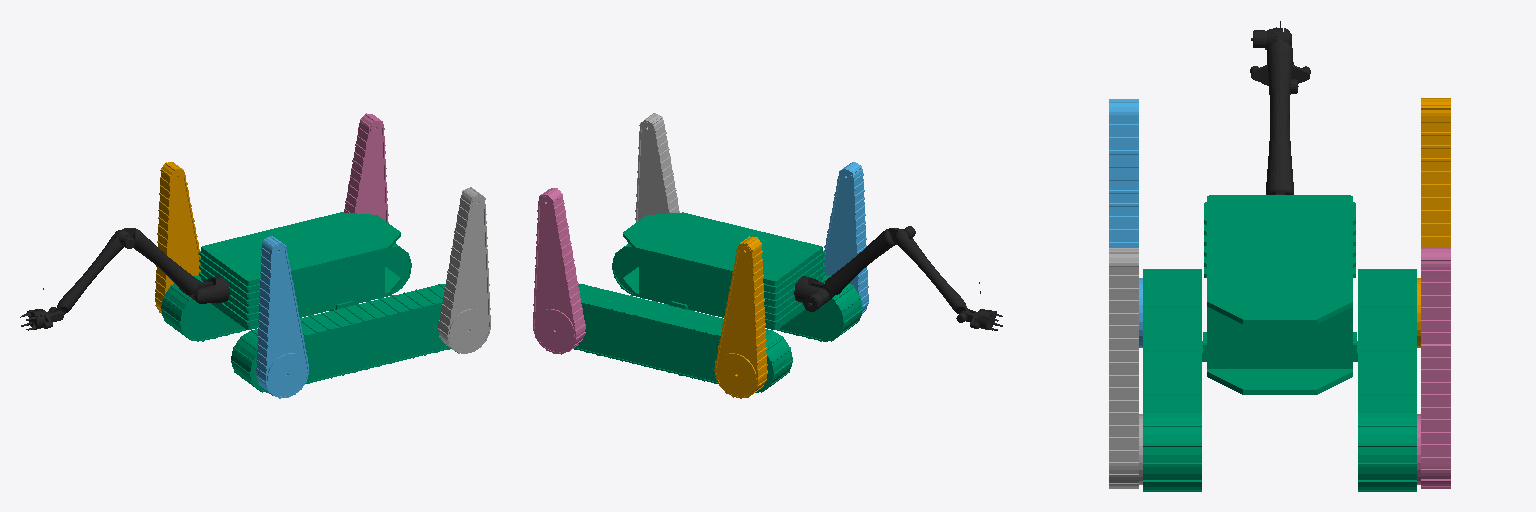
--- Facts derived from the render (not from the file) ---
The picture shows the robot from 3 angles, left to right: view 1: azimuth 30°, elevation 25°; view 2: azimuth 150°, elevation 25°; view 3: azimuth 270°, elevation 25°; orthographic projection.
Model iai_donkey with 25 links and 24 joints (17 revolute, 4 continuous, 3 fixed), rooted at base_footprint, posed joints at zero except 4 at the middle of their limits (chains_joint_front_left = 1.5, chains_joint_front_right = 1.5, chains_joint_back_left = 1.5, chains_joint_back_right = 1.5).
Links seen in each view (by area): view 1: base_link, chains_loose_front_right, chains_loose_back_right, chains_loose_back_left, chains_loose_front_left, arm_upper, arm_lower, arm_base; view 2: base_link, chains_loose_front_left, chains_loose_back_left, chains_loose_back_right, chains_loose_front_right, arm_upper, arm_lower, arm_base; view 3: base_link, chains_loose_front_left, chains_loose_front_right, chains_loose_back_left, chains_loose_back_right, arm_lower.
Link boxes in pixels (x1=…): base_link: x1=161, y1=212, x2=450, y2=392; chains_loose_front_right: x1=438, y1=187, x2=490, y2=353; chains_loose_back_right: x1=256, y1=236, x2=308, y2=398; chains_loose_back_left: x1=155, y1=162, x2=200, y2=313; chains_loose_front_left: x1=344, y1=113, x2=388, y2=222; arm_upper: x1=63, y1=230, x2=134, y2=305; arm_lower: x1=133, y1=235, x2=203, y2=299; arm_base: x1=179, y1=276, x2=229, y2=303; base_link: x1=574, y1=212, x2=862, y2=392; chains_loose_front_left: x1=533, y1=188, x2=585, y2=354; chains_loose_back_left: x1=714, y1=236, x2=767, y2=398; chains_loose_back_right: x1=823, y1=162, x2=868, y2=313; chains_loose_front_right: x1=635, y1=113, x2=679, y2=221; arm_upper: x1=894, y1=226, x2=960, y2=305; arm_lower: x1=820, y1=235, x2=891, y2=299; arm_base: x1=794, y1=276, x2=829, y2=311; base_link: x1=1143, y1=195, x2=1416, y2=491; chains_loose_front_left: x1=1417, y1=248, x2=1450, y2=488; chains_loose_front_right: x1=1109, y1=248, x2=1142, y2=488; chains_loose_back_left: x1=1417, y1=98, x2=1450, y2=347; chains_loose_back_right: x1=1109, y1=99, x2=1142, y2=347; arm_lower: x1=1266, y1=55, x2=1293, y2=194.
Bounding box of the posed robot: 2.38 × 1.1 × 0.8748 m (x, y, z).
Meshes: 13 distinct files referenced, 20 mesh visuals loaded (12 Collada DAE); not drawn: 1 (file found but could not be loaded).

robot.urdf — iai_donkey:
<?xml version="1.0" ?>
<!-- =================================================================================== -->
<!-- |    This document was autogenerated by xacro from donkey.gazebo.urdf.xacro       | -->
<!-- |    EDITING THIS FILE BY HAND IS NOT RECOMMENDED                                 | -->
<!-- =================================================================================== -->
<robot name="iai_donkey" xmlns:xacro="http://ros.org/wiki/xacro">
  <link name="arm_base">
    <!-- visual -->
    <visual>
      <geometry>
        <mesh filename="package://iai_sherpa_donkey/meshes/arm_base_vis.dae"/>
      </geometry>
    </visual>
    <!-- collision -->
    <collision>
      <geometry>
        <mesh filename="package://iai_sherpa_donkey/meshes/arm_base_col.stl"/>
      </geometry>
    </collision>
    <!-- inertial -->
    <inertial>
      <origin rpy="0 0 0" xyz="0 0 0"/>
      <mass value="0.5"/>
      <inertia ixx="0.001" ixy="0.0" ixz="0.0" iyy="0.001" iyz="0.0" izz="0.001"/>
    </inertial>
  </link>
  <joint name="base_link_arm_base_joint" type="revolute">
    <parent link="base_link"/>
    <child link="arm_base"/>
    <origin rpy="0 0 3.14159393311" xyz="-0.39818906784057617 0.0 0.0010514259338378906"/>
    <axis xyz="1 0 0"/>
    <!-- 
        THIS is a dirty hack must be fixed in future versions
        what we need is a new empty type which has properties for joint types limits...
        lower and upper could be set by constraints    
    -->
    <limit effort="100" lower="-3.14" upper="3.14" velocity="1.0"/>
  </joint>
  <transmission name="base_link_arm_base_trans">
    <type>position_controllers/JointTrajectoryController</type>
    <joint name="base_link_arm_base_joint">
      <hardwareInterface>PositionJointInterface</hardwareInterface>
    </joint>
    <actuator name="base_link_arm_base_motor">
      <hardwareInterface>PositionJointInterface</hardwareInterface>
      <mechanicalReduction>1</mechanicalReduction>
    </actuator>
  </transmission>
  <link name="arm_lower">
    <!-- visual -->
    <visual>
      <geometry>
        <mesh filename="package://iai_sherpa_donkey/meshes/arm_lower_vis.dae"/>
      </geometry>
    </visual>
    <!-- collision -->
    <collision>
      <geometry>
        <mesh filename="package://iai_sherpa_donkey/meshes/arm_lower_col.stl"/>
      </geometry>
    </collision>
    <!-- inertial -->
    <inertial>
      <origin rpy="0 0 0" xyz="0 0 0"/>
      <mass value="1"/>
      <inertia ixx="0.001" ixy="0.0" ixz="0.0" iyy="0.001" iyz="0.0" izz="0.001"/>
    </inertial>
  </link>
  <joint name="arm_base_arm_lower_joint" type="revolute">
    <parent link="arm_base"/>
    <child link="arm_lower"/>
    <origin rpy=" -0.0000  -0.8205  -0.0000" xyz="  0.1376   0.0000   0.0004"/>
    <axis xyz="0 1 0"/>
    <!-- 
        THIS is a dirty hack must be fixed in future versions
        what we need is a new empty type which has properties for joint types limits...
        lower and upper could be set by constraints    
    -->
    <limit effort="100" lower="-3.14" upper="3.14" velocity="1.0"/>
  </joint>
  <transmission name="arm_base_arm_lower_trans">
    <type>position_controllers/JointTrajectoryController</type>
    <joint name="arm_base_arm_lower_joint">
      <hardwareInterface>PositionJointInterface</hardwareInterface>
    </joint>
    <actuator name="arm_base_arm_lower_motor">
      <hardwareInterface>PositionJointInterface</hardwareInterface>
      <mechanicalReduction>1</mechanicalReduction>
    </actuator>
  </transmission>
  <link name="arm_lower_end">
    <!-- visual -->
    <visual>
      <geometry>
        <mesh filename="package://iai_sherpa_donkey/meshes/arm_lower_end_vis.dae"/>
      </geometry>
    </visual>
    <!-- collision -->
    <collision>
      <geometry>
        <mesh filename="package://iai_sherpa_donkey/meshes/arm_lower_end_col.stl"/>
      </geometry>
    </collision>
    <!-- inertial -->
    <inertial>
      <origin rpy="0 0 0" xyz="0 0 0"/>
      <mass value="0.5"/>
      <inertia ixx="0.001" ixy="0.0" ixz="0.0" iyy="0.001" iyz="0.0" izz="0.001"/>
    </inertial>
  </link>
  <joint name="arm_lower_arm_lower_end_joint" type="revolute">
    <parent link="arm_lower"/>
    <child link="arm_lower_end"/>
    <origin rpy=" -3.1416   0.0037  -0.0000" xyz="  0.5271   0.0000  -0.0025"/>
    <axis xyz="1 0 0"/>
    <!-- 
        THIS is a dirty hack must be fixed in future versions
        what we need is a new empty type which has properties for joint types limits...
        lower and upper could be set by constraints    
    -->
    <limit effort="100" lower="-3.14" upper="3.14" velocity="1.0"/>
  </joint>
  <transmission name="arm_lower_arm_lower_end_trans">
    <type>position_controllers/JointTrajectoryController</type>
    <joint name="arm_lower_arm_lower_end_joint">
      <hardwareInterface>PositionJointInterface</hardwareInterface>
    </joint>
    <actuator name="arm_lower_arm_lower_end_motor">
      <hardwareInterface>PositionJointInterface</hardwareInterface>
      <mechanicalReduction>1</mechanicalReduction>
    </actuator>
  </transmission>
  <link name="arm_upper">
    <!-- visual -->
    <visual>
      <geometry>
        <mesh filename="package://iai_sherpa_donkey/meshes/arm_upper_vis.dae"/>
      </geometry>
    </visual>
    <!-- collision -->
    <collision>
      <geometry>
        <mesh filename="package://iai_sherpa_donkey/meshes/arm_upper_col.stl"/>
      </geometry>
    </collision>
    <!-- inertial -->
    <inertial>
      <origin rpy="0 0 0" xyz="0 0 0"/>
      <mass value="2"/>
      <inertia ixx="0.001" ixy="0.0" ixz="0.0" iyy="0.001" iyz="0.0" izz="0.001"/>
    </inertial>
  </link>
  <joint name="arm_lower_end_arm_upper_joint" type="revolute">
    <parent link="arm_lower_end"/>
    <child link="arm_upper"/>
    <origin rpy=" -0.0000  -1.5348   0.0000" xyz="  0.0824  -0.0000   0.0412"/>
    <axis xyz="0 1 0"/>
    <!-- 
        THIS is a dirty hack must be fixed in future versions
        what we need is a new empty type which has properties for joint types limits...
        lower and upper could be set by constraints    
    -->
    <limit effort="100" lower="-3.14" upper="3.14" velocity="1.0"/>
  </joint>
  <transmission name="arm_lower_end_arm_upper_trans">
    <type>position_controllers/JointTrajectoryController</type>
    <joint name="arm_lower_end_arm_upper_joint">
      <hardwareInterface>PositionJointInterface</hardwareInterface>
    </joint>
    <actuator name="arm_lower_end_arm_upper_motor">
      <hardwareInterface>PositionJointInterface</hardwareInterface>
      <mechanicalReduction>1</mechanicalReduction>
    </actuator>
  </transmission>
  <link name="arm_upper_end">
    <!-- visual -->
    <visual>
      <geometry>
        <mesh filename="package://iai_sherpa_donkey/meshes/arm_upper_end_vis.dae"/>
      </geometry>
    </visual>
    <!-- collision -->
    <collision>
      <geometry>
        <mesh filename="package://iai_sherpa_donkey/meshes/arm_upper_end_col.stl"/>
      </geometry>
    </collision>
    <!-- inertial -->
    <inertial>
      <origin rpy="0 0 0" xyz="0 0 0"/>
      <mass value="20.5"/>
      <inertia ixx="0.001" ixy="0.0" ixz="0.0" iyy="0.001" iyz="0.0" izz="0.001"/>
    </inertial>
  </link>
  <joint name="arm_upper_arm_upper_end_joint" type="revolute">
    <parent link="arm_upper"/>
    <child link="arm_upper_end"/>
    <origin rpy="  3.1416  -0.0951   0.0000" xyz="  0.4170   0.0000   0.0075"/>
    <axis xyz="1 0 0"/>
    <!-- 
        THIS is a dirty hack must be fixed in future versions
        what we need is a new empty type which has properties for joint types limits...
        lower and upper could be set by constraints    
    -->
    <limit effort="100" lower="-3.14" upper="3.14" velocity="1.0"/>
  </joint>
  <transmission name="arm_upper_arm_upper_end_trans">
    <type>position_controllers/JointTrajectoryController</type>
    <joint name="arm_upper_arm_upper_end_joint">
      <hardwareInterface>PositionJointInterface</hardwareInterface>
    </joint>
    <actuator name="arm_upper_arm_upper_end_motor">
      <hardwareInterface>PositionJointInterface</hardwareInterface>
      <mechanicalReduction>1</mechanicalReduction>
    </actuator>
  </transmission>
  <link name="gripper_base">
    <visual>
      <geometry>
        <mesh filename="package://iai_sherpa_donkey/meshes/gripper_base_vis.dae"/>
      </geometry>
    </visual>
    <collision>
      <geometry>
        <mesh filename="package://iai_sherpa_donkey/meshes/gripper_base_col.stl"/>
      </geometry>
    </collision>
    <inertial>
      <origin rpy="0 0 0" xyz="0 0 0"/>
      <mass value="0.5"/>
      <inertia ixx="0.001" ixy="0.0" ixz="0.0" iyy="0.001" iyz="0.0" izz="0.001"/>
    </inertial>
  </link>
  <joint name="arm_upper_end_gripper_base_joint" type="revolute">
    <parent link="arm_upper_end"/>
    <child link="gripper_base"/>
    <origin rpy=" -0.0000  -0.8131   0.0000" xyz="  0.0824   0.0000   0.0014"/>
    <axis xyz="0 1 0"/>
    <!-- 
	    THIS is a dirty hack must be fixed in future versions
	    what we need is a new empty type which has properties for joint types limits...
	    lower and upper could be set by constraints    
	-->
    <limit effort="100" lower="-3.14" upper="3.14" velocity="1.0"/>
  </joint>
  <transmission name="arm_upper_end_gripper_base_trans">
    <type>position_controllers/JointTrajectoryController</type>
    <joint name="arm_upper_end_gripper_base_joint">
      <hardwareInterface>PositionJointInterface</hardwareInterface>
    </joint>
    <actuator name="arm_upper_end_gripper_base_motor">
      <hardwareInterface>PositionJointInterface</hardwareInterface>
      <mechanicalReduction>1</mechanicalReduction>
    </actuator>
  </transmission>
  <link name="gripper_palm">
    <!-- visual -->
    <visual>
      <geometry>
        <mesh filename="package://iai_sherpa_donkey/meshes/gripper_palm_vis.dae"/>
      </geometry>
    </visual>
    <!-- collision -->
    <!-- inertial -->
    <inertial>
      <origin rpy="0 0 0" xyz="0 0 0"/>
      <mass value="0.25"/>
      <inertia ixx="0.0005" ixy="0.0" ixz="0.0" iyy="0.0005" iyz="0.0" izz="0.0005"/>
    </inertial>
  </link>
  <joint name="gripper_base_gripper_palm_joint" type="revolute">
    <parent link="gripper_base"/>
    <child link="gripper_palm"/>
    <origin rpy=" -0.0000  -0.0000   0.0000" xyz="  0.1216  -0.0022  -0.0009"/>
    <axis xyz="1 0 0"/>
    <!-- 
        THIS is a dirty hack must be fixed in future versions
        what we need is a new empty type which has properties for joint types limits...
        lower and upper could be set by constraints    
    -->
    <limit effort="100" lower="-3.14" upper="3.14" velocity="1.0"/>
  </joint>
  <transmission name="gripper_base_gripper_palm_trans">
    <type>position_controllers/JointTrajectoryController</type>
    <joint name="gripper_base_gripper_palm_joint">
      <hardwareInterface>PositionJointInterface</hardwareInterface>
    </joint>
    <actuator name="gripper_base_gripper_palm_motor">
      <hardwareInterface>PositionJointInterface</hardwareInterface>
      <mechanicalReduction>1</mechanicalReduction>
    </actuator>
  </transmission>
  <link name="gripper_grasp_link"/>
  <joint name="gripper_palm_gripper_grasp_joint" type="fixed">
    <parent link="gripper_palm"/>
    <child link="gripper_grasp_link"/>
    <origin rpy="1.57079696655 0.785398483276  1.57079696655" xyz="0.02 0.0 0.0"/>
  </joint>
  <link name="cam_right">
    <!-- visual -->
    <visual>
      <geometry>
        <mesh filename="package://iai_sherpa_donkey/meshes/cam_vis.dae"/>
      </geometry>
    </visual>
    <!-- collision -->
    <!-- inertial -->
    <inertial>
      <origin rpy="0 0 0" xyz="0 0 0"/>
      <mass value="0.01"/>
      <inertia ixx="0.000001" ixy="0.0" ixz="0.0" iyy="0.000001" iyz="0.0" izz="0.000001"/>
    </inertial>
  </link>
  <joint name="gripper_base_cam_right_joint" type="revolute">
    <parent link="gripper_base"/>
    <child link="cam_right"/>
    <origin rpy=" -0.0000  -0.0000   0.0000" xyz="  0.0981  -0.0794  -0.0006"/>
    <axis xyz="1 0 0"/>
    <limit effort="0" lower="0" upper="0" velocity="0"/>
  </joint>
  <transmission name="gripper_base_cam_right_trans">
    <type>position_controllers/JointTrajectoryController</type>
    <joint name="gripper_base_cam_right_joint">
      <hardwareInterface>EffortJointInterface</hardwareInterface>
    </joint>
    <actuator name="gripper_base_cam_right_motor">
      <hardwareInterface>EffortJointInterface</hardwareInterface>
      <mechanicalReduction>1</mechanicalReduction>
    </actuator>
  </transmission>
  <link name="cam_left">
    <!-- visual -->
    <visual>
      <geometry>
        <mesh filename="package://iai_sherpa_donkey/meshes/cam_vis.dae"/>
      </geometry>
    </visual>
    <!-- collision -->
    <!-- inertial -->
    <inertial>
      <origin rpy="0 0 0" xyz="0 0 0"/>
      <mass value="0.01"/>
      <inertia ixx="0.000001" ixy="0.0" ixz="0.0" iyy="0.000001" iyz="0.0" izz="0.000001"/>
    </inertial>
  </link>
  <joint name="gripper_base_cam_left_joint" type="revolute">
    <parent link="gripper_base"/>
    <child link="cam_left"/>
    <origin rpy=" -3.1415 0.0000  0.0000" xyz="  0.1016   0.0759  -0.0006"/>
    <axis xyz="1 0 0"/>
    <limit effort="0" lower="0" upper="0" velocity="0"/>
  </joint>
  <transmission name="gripper_base_cam_left_trans">
    <type>position_controllers/JointTrajectoryController</type>
    <joint name="gripper_base_cam_left_joint">
      <hardwareInterface>EffortJointInterface</hardwareInterface>
    </joint>
    <actuator name="gripper_base_cam_left_motor">
      <hardwareInterface>EffortJointInterface</hardwareInterface>
      <mechanicalReduction>1</mechanicalReduction>
    </actuator>
  </transmission>
  <link name="finger_bottom_left">
    <!-- visual -->
    <visual>
      <geometry>
        <mesh filename="package://iai_sherpa_donkey/meshes/finger_vis.dae"/>
      </geometry>
    </visual>
    <collision>
      <geometry>
        <mesh filename="package://iai_sherpa_donkey/meshes/finger_vis.dae"/>
      </geometry>
    </collision>
    <!-- collision -->
    <!-- inertial -->
    <inertial>
      <origin rpy="0 0 0" xyz="0 0 0"/>
      <mass value="0.01"/>
      <inertia ixx="0.000001" ixy="0.0" ixz="0.0" iyy="0.000001" iyz="0.0" izz="0.000001"/>
    </inertial>
  </link>
  <joint name="gripper_palm_finger_bottom_left_joint" type="revolute">
    <parent link="gripper_palm"/>
    <child link="finger_bottom_left"/>
    <origin rpy=" -2.3562  -0.0000  -0.0000" xyz="  0.0054   0.0244  -0.0222"/>
    <axis xyz="0 1 0"/>
    <!-- 
        THIS is a dirty hack must be fixed in future versions
        what we need is a new empty type which has properties for joint types limits...
        lower and upper could be set by constraints    
    -->
    <limit effort="100" lower="-1.4" upper="0.4" velocity="1.0"/>
  </joint>
  <transmission name="gripper_palm_finger_bottom_left_trans">
    <type>position_controllers/JointTrajectoryController</type>
    <joint name="gripper_palm_finger_bottom_left_joint">
      <hardwareInterface>PositionJointInterface</hardwareInterface>
    </joint>
    <actuator name="gripper_palm_finger_bottom_left_motor">
      <hardwareInterface>PositionJointInterface</hardwareInterface>
      <mechanicalReduction>1</mechanicalReduction>
    </actuator>
  </transmission>
  <link name="finger_bottom_right">
    <!-- visual -->
    <visual>
      <geometry>
        <mesh filename="package://iai_sherpa_donkey/meshes/finger_vis.dae"/>
      </geometry>
    </visual>
    <collision>
      <geometry>
        <mesh filename="package://iai_sherpa_donkey/meshes/finger_vis.dae"/>
      </geometry>
    </collision>
    <!-- collision -->
    <!-- inertial -->
    <inertial>
      <origin rpy="0 0 0" xyz="0 0 0"/>
      <mass value="0.01"/>
      <inertia ixx="0.000001" ixy="0.0" ixz="0.0" iyy="0.000001" iyz="0.0" izz="0.000001"/>
    </inertial>
  </link>
  <joint name="gripper_palm_finger_bottom_right_joint" type="revolute">
    <parent link="gripper_palm"/>
    <child link="finger_bottom_right"/>
    <origin rpy="  2.3562   0.0000  -0.0000" xyz="  0.0054  -0.0209  -0.0213"/>
    <axis xyz="0 1 0"/>
    <!-- 
        THIS is a dirty hack must be fixed in future versions
        what we need is a new empty type which has properties for joint types limits...
        lower and upper could be set by constraints    
    -->
    <limit effort="100" lower="-1.4" upper="0.4" velocity="1.0"/>
  </joint>
  <transmission name="gripper_palm_finger_bottom_right_trans">
    <type>position_controllers/JointTrajectoryController</type>
    <joint name="gripper_palm_finger_bottom_right_joint">
      <hardwareInterface>PositionJointInterface</hardwareInterface>
    </joint>
    <actuator name="gripper_palm_finger_bottom_right_motor">
      <hardwareInterface>PositionJointInterface</hardwareInterface>
      <mechanicalReduction>1</mechanicalReduction>
    </actuator>
  </transmission>
  <link name="finger_top_left">
    <!-- visual -->
    <visual>
      <geometry>
        <mesh filename="package://iai_sherpa_donkey/meshes/finger_vis.dae"/>
      </geometry>
    </visual>
    <collision>
      <geometry>
        <mesh filename="package://iai_sherpa_donkey/meshes/finger_vis.dae"/>
      </geometry>
    </collision>
    <!-- collision -->
    <!-- inertial -->
    <inertial>
      <origin rpy="0 0 0" xyz="0 0 0"/>
      <mass value="0.01"/>
      <inertia ixx="0.000001" ixy="0.0" ixz="0.0" iyy="0.000001" iyz="0.0" izz="0.000001"/>
    </inertial>
  </link>
  <joint name="gripper_palm_finger_top_left_joint" type="revolute">
    <parent link="gripper_palm"/>
    <child link="finger_top_left"/>
    <origin rpy=" -0.7854  -0.0000  -0.0000" xyz="  0.0054   0.0253   0.0231"/>
    <axis xyz="0 1 0"/>
    <!-- 
        THIS is a dirty hack must be fixed in future versions
        what we need is a new empty type which has properties for joint types limits...
        lower and upper could be set by constraints    
    -->
    <limit effort="100" lower="-1.4" upper="0.4" velocity="1.0"/>
  </joint>
  <transmission name="gripper_palm_finger_top_left_trans">
    <type>position_controllers/JointTrajectoryController</type>
    <joint name="gripper_palm_finger_top_left_joint">
      <hardwareInterface>PositionJointInterface</hardwareInterface>
    </joint>
    <actuator name="gripper_palm_finger_top_left_motor">
      <hardwareInterface>PositionJointInterface</hardwareInterface>
      <mechanicalReduction>1</mechanicalReduction>
    </actuator>
  </transmission>
  <link name="finger_top_right">
    <!-- visual -->
    <visual>
      <geometry>
        <mesh filename="package://iai_sherpa_donkey/meshes/finger_vis.dae"/>
      </geometry>
    </visual>
    <collision>
      <geometry>
        <mesh filename="package://iai_sherpa_donkey/meshes/finger_vis.dae"/>
      </geometry>
    </collision>
    <!-- collision -->
    <!-- inertial -->
    <inertial>
      <origin rpy="0 0 0" xyz="0 0 0"/>
      <mass value="0.01"/>
      <inertia ixx="0.000001" ixy="0.0" ixz="0.0" iyy="0.000001" iyz="0.0" izz="0.000001"/>
    </inertial>
  </link>
  <joint name="gripper_palm_finger_top_right_joint" type="revolute">
    <parent link="gripper_palm"/>
    <child link="finger_top_right"/>
    <origin rpy="  0.7854   0.0000  -0.0000" xyz="  0.0054  -0.0200   0.0240"/>
    <axis xyz="0 1 0"/>
    <!-- 
        THIS is a dirty hack must be fixed in future versions
        what we need is a new empty type which has properties for joint types limits...
        lower and upper could be set by constraints    
    -->
    <limit effort="100" lower="-1.4" upper="0.4" velocity="1.0"/>
  </joint>
  <transmission name="gripper_palm_finger_top_right_trans">
    <type>position_controllers/JointTrajectoryController</type>
    <joint name="gripper_palm_finger_top_right_joint">
      <hardwareInterface>PositionJointInterface</hardwareInterface>
    </joint>
    <actuator name="gripper_palm_finger_top_right_motor">
      <hardwareInterface>PositionJointInterface</hardwareInterface>
      <mechanicalReduction>1</mechanicalReduction>
    </actuator>
  </transmission>
  <link name="chains_loose_front_left">
    <visual>
      <geometry>
        <mesh filename="package://iai_sherpa_donkey/meshes/Loose_Wheel.dae"/>
      </geometry>
    </visual>
    <collision>
      <geometry>
        <mesh filename="package://iai_sherpa_donkey/meshes/Loose_Wheel_Col.dae"/>
      </geometry>
    </collision>
    <inertial>
      <origin rpy="0 0 0" xyz="0 0 0"/>
      <mass value="0.5"/>
      <inertia ixx="0.001" ixy="0.0" ixz="0.0" iyy="0.001" iyz="0.0" izz="0.001"/>
    </inertial>
  </link>
  <joint name="chains_joint_front_left" type="revolute">
    <parent link="base_link"/>
    <child link="chains_loose_front_left"/>
    <origin rpy="3.14159393311 0 0" xyz="0.696425437927 0.503306388855 -0.26314997673"/>
    <limit effort="-1" lower="1." upper="2." velocity="-1"/>
    <axis xyz="0 1 0"/>
  </joint>
  <transmission name="chain_trans_front_left">
    <type>position_controllers/JointTrajectoryController</type>
    <joint name="chains_joint_front_left">
      <hardwareInterface>PositionJointInterface</hardwareInterface>
    </joint>
    <actuator name="chain_motor_front_left">
      <hardwareInterface>PositionJointInterface</hardwareInterface>
      <mechanicalReduction>10</mechanicalReduction>
    </actuator>
  </transmission>
  <link name="chains_loose_front_right">
    <visual>
      <geometry>
        <mesh filename="package://iai_sherpa_donkey/meshes/Loose_Wheel.dae"/>
      </geometry>
    </visual>
    <collision>
      <geometry>
        <mesh filename="package://iai_sherpa_donkey/meshes/Loose_Wheel_Col.dae"/>
      </geometry>
    </collision>
    <inertial>
      <origin rpy="0 0 0" xyz="0 0 0"/>
      <mass value="0.5"/>
      <inertia ixx="0.001" ixy="0.0" ixz="0.0" iyy="0.001" iyz="0.0" izz="0.001"/>
    </inertial>
  </link>
  <joint name="chains_joint_front_right" type="revolute">
    <parent link="base_link"/>
    <child link="chains_loose_front_right"/>
    <origin rpy="0.0 0.0 0.0" xyz="0.696425437927 -0.503306388855 -0.26314997673"/>
    <limit effort="-1" lower="1." upper="2." velocity="-1"/>
    <axis xyz="0 -1 0"/>
  </joint>
  <transmission name="chain_trans_front_right">
    <type>position_controllers/JointTrajectoryController</type>
    <joint name="chains_joint_front_right">
      <hardwareInterface>PositionJointInterface</hardwareInterface>
    </joint>
    <actuator name="chain_motor_front_right">
      <hardwareInterface>PositionJointInterface</hardwareInterface>
      <mechanicalReduction>10</mechanicalReduction>
    </actuator>
  </transmission>
  <link name="chains_loose_back_left">
    <visual>
      <geometry>
        <mesh filename="package://iai_sherpa_donkey/meshes/Loose_Wheel.dae"/>
      </geometry>
    </visual>
    <collision>
      <geometry>
        <mesh filename="package://iai_sherpa_donkey/meshes/Loose_Wheel_Col.dae"/>
      </geometry>
    </collision>
    <inertial>
      <origin rpy="0 0 0" xyz="0 0 0"/>
      <mass value="0.5"/>
      <inertia ixx="0.001" ixy="0.0" ixz="0.0" iyy="0.001" iyz="0.0" izz="0.001"/>
    </inertial>
  </link>
  <joint name="chains_joint_back_left" type="revolute">
    <parent link="base_link"/>
    <child link="chains_loose_back_left"/>
    <origin rpy="3.14159393311 3.14159393311 0.0" xyz="-0.348821163177 0.503306388855 -0.26314997673"/>
    <limit effort="-1" lower="1." upper="2." velocity="-1"/>
    <axis xyz="0 -1 0"/>
  </joint>
  <transmission name="chain_trans_back_left">
    <type>position_controllers/JointTrajectoryController</type>
    <joint name="chains_joint_back_left">
      <hardwareInterface>PositionJointInterface</hardwareInterface>
    </joint>
    <actuator name="chain_motor_back_left">
      <hardwareInterface>PositionJointInterface</hardwareInterface>
      <mechanicalReduction>10</mechanicalReduction>
    </actuator>
  </transmission>
  <link name="chains_loose_back_right">
    <visual>
      <geometry>
        <mesh filename="package://iai_sherpa_donkey/meshes/Loose_Wheel.dae"/>
      </geometry>
    </visual>
    <collision>
      <geometry>
        <mesh filename="package://iai_sherpa_donkey/meshes/Loose_Wheel_Col.dae"/>
      </geometry>
    </collision>
    <inertial>
      <origin rpy="0 0 0" xyz="0 0 0"/>
      <mass value="0.5"/>
      <inertia ixx="0.001" ixy="0.0" ixz="0.0" iyy="0.001" iyz="0.0" izz="0.001"/>
    </inertial>
  </link>
  <joint name="chains_joint_back_right" type="revolute">
    <parent link="base_link"/>
    <child link="chains_loose_back_right"/>
    <origin rpy="0.0 3.14159393311 0.0" xyz="-0.348821163177 -0.503306388855 -0.26314997673"/>
    <limit effort="-1" lower="1." upper="2." velocity="-1"/>
    <axis xyz="0 1 0"/>
  </joint>
  <transmission name="chain_trans_back_right">
    <type>position_controllers/JointTrajectoryController</type>
    <joint name="chains_joint_back_right">
      <hardwareInterface>PositionJointInterface</hardwareInterface>
    </joint>
    <actuator name="chain_motor_back_right">
      <hardwareInterface>PositionJointInterface</hardwareInterface>
      <mechanicalReduction>10</mechanicalReduction>
    </actuator>
  </transmission>
  <link name="base_link">
    <!--MAIN_BODY-->
    <visual>
      <origin rpy="0 0 0" xyz="0 0 0"/>
      <geometry>
        <mesh filename="package://iai_sherpa_donkey/meshes/Body.dae"/>
      </geometry>
    </visual>
    <collision>
      <origin rpy="0 0 0" xyz="0 0 0"/>
      <geometry>
        <mesh filename="package://iai_sherpa_donkey/meshes/Body.dae"/>
      </geometry>
    </collision>
    <!--LEFT_CHAINS-->
    <visual>
      <origin rpy="0 0 0" xyz="0.16442573070526123 0.3477001190185547 -0.2631499767303467"/>
      <geometry>
        <mesh filename="package://iai_sherpa_donkey/meshes/Main_Wheel.dae"/>
      </geometry>
    </visual>
    <visual>
      <origin rpy="0 0 0" xyz="0.16442573070526123 -0.3477001190185547 -0.2631499767303467"/>
      <geometry>
        <mesh filename="package://iai_sherpa_donkey/meshes/Main_Wheel.dae"/>
      </geometry>
    </visual>
    <collision>
      <origin rpy="0 0 0" xyz="0.16442573070526123 0.3477001190185547 -0.2631499767303467"/>
      <geometry>
        <mesh filename="package://iai_sherpa_donkey/meshes/Main_Wheel.dae"/>
      </geometry>
    </collision>
    <collision>
      <origin rpy="0 0 0" xyz="0.16442573070526123 -0.3477001190185547 -0.2631499767303467"/>
      <geometry>
        <mesh filename="package://iai_sherpa_donkey/meshes/Main_Wheel.dae"/>
      </geometry>
    </collision>
    <!--
        <collision>
        <geometry>
            <mesh filename="package://iai_sherpa_donkey/meshes/Full_Body_Col.dae"/>
        </geometry>
            <origin xyz="0.004205834120512009 -8.124277428578353e-08 0.4054466485977173" rpy="0 0 0" />
        </collision>
	-->
    <inertial>
      <!--       
        <origin xyz="0.0 0 0.15" rpy="0 0 0"/>
	-->
      <origin rpy="0 0 0" xyz="0.2 0 -0.1"/>
      <mass value="50"/>
      <inertia ixx="0.75" ixy="0.0" ixz="0.0" iyy="0.75" iyz="0.0" izz="0.75"/>
    </inertial>
  </link>
  <link name="base_footprint">
    <!-- visual -->
    <!-- collision -->
    <!-- inertial -->
    <inertial>
      <origin rpy="0 0 0" xyz="0 0 0.03"/>
      <!-- FIXME starting higher to avoid collision-->
      <mass value="0.1"/>
      <!--
	-->
      <inertia ixx="0.01" ixy="0.0" ixz="0.0" iyy="0.01" iyz="0.0" izz="0.01"/>
    </inertial>
  </link>
  <joint name="base_footprint_base_link_joint" type="fixed">
    <parent link="base_footprint"/>
    <child link="base_link"/>
    <origin rpy="0 0 0" xyz="0 0 0.4054466485977173"/>
  </joint>
  <link name="wheel_front_left">
    <collision>
      <origin rpy="1.57079696655 0 0" xyz="0 0 0"/>
      <geometry>
        <cylinder length="0.125" radius="0.17"/>
        <!--
            <cylinder radius="0.17" length="0.125"/>
            -->
      </geometry>
    </collision>
    <inertial>
      <origin rpy="0 0 0" xyz="0 0 0"/>
      <mass value="4"/>
      <!-- 1 -->
      <inertia ixx=".005" ixy="0.0" ixz="0.0" iyy=".005" iyz="0.0" izz=".005"/>
    </inertial>
  </link>
  <gazebo reference="wheel_front_left">
    <mu1>01.</mu1>
    <mu2>1</mu2>
    <kp>3000</kp>
    <kd>10000</kd>
    <!--
	  <kp>10000</kp>
	  <kd>10000</kd>
	  -->
  </gazebo>
  <joint name="wheel_joint_front_left" type="continuous">
    <parent link="base_link"/>
    <child link="wheel_front_left"/>
    <origin rpy="0 0 0" xyz="0.696425437927 0.503306388855 -0.26314997673"/>
    <limit effort="400" lower="-2" upper="2" velocity="100"/>
    <axis xyz="0 1 0"/>
  </joint>
  <transmission name="wheel_trans_front_left">
    <type>transmission_interface/SimpleTransmission</type>
    <joint name="wheel_joint_front_left">
      <hardwareInterface>EffortJointInterface</hardwareInterface>
    </joint>
    <actuator name="wheel_motor_front_left">
      <hardwareInterface>EffortJointInterface</hardwareInterface>
      <mechanicalReduction>1</mechanicalReduction>
    </actuator>
  </transmission>
  <link name="wheel_front_right">
    <collision>
      <origin rpy="1.57079696655 0 0" xyz="0 0 0"/>
      <geometry>
        <cylinder length="0.125" radius="0.17"/>
        <!--
            <cylinder radius="0.17" length="0.125"/>
            -->
      </geometry>
    </collision>
    <inertial>
      <origin rpy="0 0 0" xyz="0 0 0"/>
      <mass value="4"/>
      <!-- 1 -->
      <inertia ixx=".005" ixy="0.0" ixz="0.0" iyy=".005" iyz="0.0" izz=".005"/>
    </inertial>
  </link>
  <gazebo reference="wheel_front_right">
    <mu1>01.</mu1>
    <mu2>1</mu2>
    <kp>3000</kp>
    <kd>10000</kd>
    <!--
	  <kp>10000</kp>
	  <kd>10000</kd>
	  -->
  </gazebo>
  <joint name="wheel_joint_front_right" type="continuous">
    <parent link="base_link"/>
    <child link="wheel_front_right"/>
    <origin rpy="0 0 0" xyz="0.696425437927 -0.503306388855 -0.26314997673"/>
    <limit effort="400" lower="-2" upper="2" velocity="100"/>
    <axis xyz="0 1 0"/>
  </joint>
  <transmission name="wheel_trans_front_right">
    <type>transmission_interface/SimpleTransmission</type>
    <joint name="wheel_joint_front_right">
      <hardwareInterface>EffortJointInterface</hardwareInterface>
    </joint>
    <actuator name="wheel_motor_front_right">
      <hardwareInterface>EffortJointInterface</hardwareInterface>
      <mechanicalReduction>1</mechanicalReduction>
    </actuator>
  </transmission>
  <link name="wheel_back_left">
    <collision>
      <origin rpy="1.57079696655 0 0" xyz="0 0 0"/>
      <geometry>
        <cylinder length="0.125" radius="0.17"/>
        <!--
            <cylinder radius="0.17" length="0.125"/>
            -->
      </geometry>
    </collision>
    <inertial>
      <origin rpy="0 0 0" xyz="0 0 0"/>
      <mass value="4"/>
      <!-- 1 -->
      <inertia ixx=".005" ixy="0.0" ixz="0.0" iyy=".005" iyz="0.0" izz=".005"/>
    </inertial>
  </link>
  <gazebo reference="wheel_back_left">
    <mu1>01.</mu1>
    <mu2>1</mu2>
    <kp>3000</kp>
    <kd>10000</kd>
    <!--
	  <kp>10000</kp>
	  <kd>10000</kd>
	  -->
  </gazebo>
  <joint name="wheel_joint_back_left" type="continuous">
    <parent link="base_link"/>
    <child link="wheel_back_left"/>
    <origin rpy="0 0 0" xyz="-0.348821163177 0.503306388855 -0.26314997673"/>
    <limit effort="400" lower="-2" upper="2" velocity="100"/>
    <axis xyz="0 1 0"/>
  </joint>
  <transmission name="wheel_trans_back_left">
    <type>transmission_interface/SimpleTransmission</type>
    <joint name="wheel_joint_back_left">
      <hardwareInterface>EffortJointInterface</hardwareInterface>
    </joint>
    <actuator name="wheel_motor_back_left">
      <hardwareInterface>EffortJointInterface</hardwareInterface>
      <mechanicalReduction>1</mechanicalReduction>
    </actuator>
  </transmission>
  <link name="wheel_back_right">
    <collision>
      <origin rpy="1.57079696655 0 0" xyz="0 0 0"/>
      <geometry>
        <cylinder length="0.125" radius="0.17"/>
        <!--
            <cylinder radius="0.17" length="0.125"/>
            -->
      </geometry>
    </collision>
    <inertial>
      <origin rpy="0 0 0" xyz="0 0 0"/>
      <mass value="4"/>
      <!-- 1 -->
      <inertia ixx=".005" ixy="0.0" ixz="0.0" iyy=".005" iyz="0.0" izz=".005"/>
    </inertial>
  </link>
  <gazebo reference="wheel_back_right">
    <mu1>01.</mu1>
    <mu2>1</mu2>
    <kp>3000</kp>
    <kd>10000</kd>
    <!--
	  <kp>10000</kp>
	  <kd>10000</kd>
	  -->
  </gazebo>
  <joint name="wheel_joint_back_right" type="continuous">
    <parent link="base_link"/>
    <child link="wheel_back_right"/>
    <origin rpy="0 0 0" xyz="-0.348821163177 -0.503306388855 -0.26314997673"/>
    <limit effort="400" lower="-2" upper="2" velocity="100"/>
    <axis xyz="0 1 0"/>
  </joint>
  <transmission name="wheel_trans_back_right">
    <type>transmission_interface/SimpleTransmission</type>
    <joint name="wheel_joint_back_right">
      <hardwareInterface>EffortJointInterface</hardwareInterface>
    </joint>
    <actuator name="wheel_motor_back_right">
      <hardwareInterface>EffortJointInterface</hardwareInterface>
      <mechanicalReduction>1</mechanicalReduction>
    </actuator>
  </transmission>
  <gazebo reference="cam_left">
    <sensor name="cam_left_camera" type="camera">
      <pose>0 0 0 3.141592654 0 0 </pose>
      <update_rate>30.0</update_rate>
      <camera name="cam_left_cam">
        <horizontal_fov>1.3962634</horizontal_fov>
        <image>
          <width>1024</width>
          <height>768</height>
          <format>R8G8B8</format>
        </image>
        <clip>
          <near>0.25</near>
          <far>1000</far>
        </clip>
        <noise>
          <type>gaussian</type>
          <!-- Noise is sampled independently per pixel on each frame.  
               That pixel's noise value is added to each of its color
               channels, which at that point lie in the range [0,1]. -->
          <mean>0.0</mean>
          <stddev>0.007</stddev>
        </noise>
      </camera>
      <plugin filename="libgazebo_ros_camera.so" name="camera_controller">
        <alwaysOn>true</alwaysOn>
        <updateRate>0.0</updateRate>
        <cameraName>cam_left_camera</cameraName>
        <imageTopicName>image_raw</imageTopicName>
        <cameraInfoTopicName>camera_info</cameraInfoTopicName>
        <frameName>cam_left</frameName>
        <hackBaseline>0.07</hackBaseline>
        <distortionK1>0.0</distortionK1>
        <distortionK2>0.0</distortionK2>
        <distortionK3>0.0</distortionK3>
        <distortionT1>0.0</distortionT1>
        <distortionT2>0.0</distortionT2>
      </plugin>
    </sensor>
  </gazebo>
  <joint name="hokuyo_joint" type="fixed">
    <axis xyz="0 1 0"/>
    <origin rpy="0 0.1 0" xyz="0.43 0.0 0.0010"/>
    <parent link="base_link"/>
    <child link="hokuyo_link"/>
  </joint>
  <link name="hokuyo_link">
    <collision>
      <origin rpy="0 0 0" xyz="0 0 0"/>
      <geometry>
        <box size="0.1 0.1 0.1"/>
      </geometry>
    </collision>
    <visual>
      <origin rpy="0 0 0" xyz="0 0 0"/>
      <geometry>
        <mesh filename="package://iai_sherpa_donkey/meshes/tilting_hokuyo.dae"/>
      </geometry>
    </visual>
    <inertial>
      <mass value="1e-5"/>
      <origin rpy="0 0 0" xyz="0 0 0"/>
      <inertia ixx="1e-6" ixy="0" ixz="0" iyy="1e-6" iyz="0" izz="1e-6"/>
    </inertial>
  </link>
  <gazebo reference="hokuyo_link">
    <sensor name="head_hokuyo_sensor" type="gpu_ray">
      <pose>0 0 0 0 0 0</pose>
      <visualize>false</visualize>
      <update_rate>40</update_rate>
      <ray>
        <scan>
          <horizontal>
            <samples>720</samples>
            <resolution>1</resolution>
            <min_angle>-0.4</min_angle>
            <max_angle>0.4</max_angle>
          </horizontal>
        </scan>
        <range>
          <min>0.10</min>
          <max>10.0</max>
          <resolution>0.1</resolution>
        </range>
        <noise>
          <type>gaussian</type>
          <!-- Noise parameters based on published spec for Hokuyo laser
               achieving "+-30mm" accuracy at range < 10m.  A mean of 0.0m and
               stddev of 0.01m will put 99.7% of samples within 0.03m of the true
               reading. -->
          <mean>0.0</mean>
          <stddev>0.01</stddev>
        </noise>
      </ray>
      <plugin filename="libgazebo_ros_gpu_laser.so" name="gazebo_ros_head_hokuyo_controller">
        <topicName>/donkey/rrbot/laser/scan</topicName>
        <frameName>hokuyo_link</frameName>
      </plugin>
    </sensor>
  </gazebo>
  <gazebo reference="cam_right">
    <sensor name="cam_right_camera" type="camera">
      <pose>0 0 0 3.141592654 0 0 </pose>
      <update_rate>30.0</update_rate>
      <camera name="cam_right_cam">
        <horizontal_fov>1.3962634</horizontal_fov>
        <image>
          <width>1024</width>
          <height>768</height>
          <format>R8G8B8</format>
        </image>
        <clip>
          <near>0.25</near>
          <far>1000</far>
        </clip>
        <noise>
          <type>gaussian</type>
          <!-- Noise is sampled independently per pixel on each frame.  
               That pixel's noise value is added to each of its color
               channels, which at that point lie in the range [0,1]. -->
          <mean>0.0</mean>
          <stddev>0.007</stddev>
        </noise>
      </camera>
      <plugin filename="libgazebo_ros_camera.so" name="camera_controller">
        <alwaysOn>true</alwaysOn>
        <updateRate>0.0</updateRate>
        <cameraName>cam_right_camera</cameraName>
        <imageTopicName>image_raw</imageTopicName>
        <cameraInfoTopicName>camera_info</cameraInfoTopicName>
        <frameName>cam_right</frameName>
        <hackBaseline>0.07</hackBaseline>
        <distortionK1>0.0</distortionK1>
        <distortionK2>0.0</distortionK2>
        <distortionK3>0.0</distortionK3>
        <distortionT1>0.0</distortionT1>
        <distortionT2>0.0</distortionT2>
      </plugin>
    </sensor>
  </gazebo>
  <gazebo>
    <plugin filename="libgazebo_ros_control.so" name="donkey_ros_control">
      <controlPeriod>0.001</controlPeriod>
      <robotParam>robot_description</robotParam>
      <!--
            <robotNamespace>$(arg prefix)</robotNamespace>
            <robotSimType>sherpa_donkey_control/SherpaDonkeyHWSim</robotSimType>
	    
	    -->
    </plugin>
  </gazebo>
  <gazebo>
    <plugin filename="libiai_donkey_move_plugin.so" name="donkey_controller">
      <commandTopic>cmd_vel</commandTopic>
      <odometryTopic>world</odometryTopic>
      <odometryFrame>world</odometryFrame>
      <odometryRate>20.0</odometryRate>
      <robotBaseFrame>base_footprint</robotBaseFrame>
    </plugin>
  </gazebo>
</robot>
